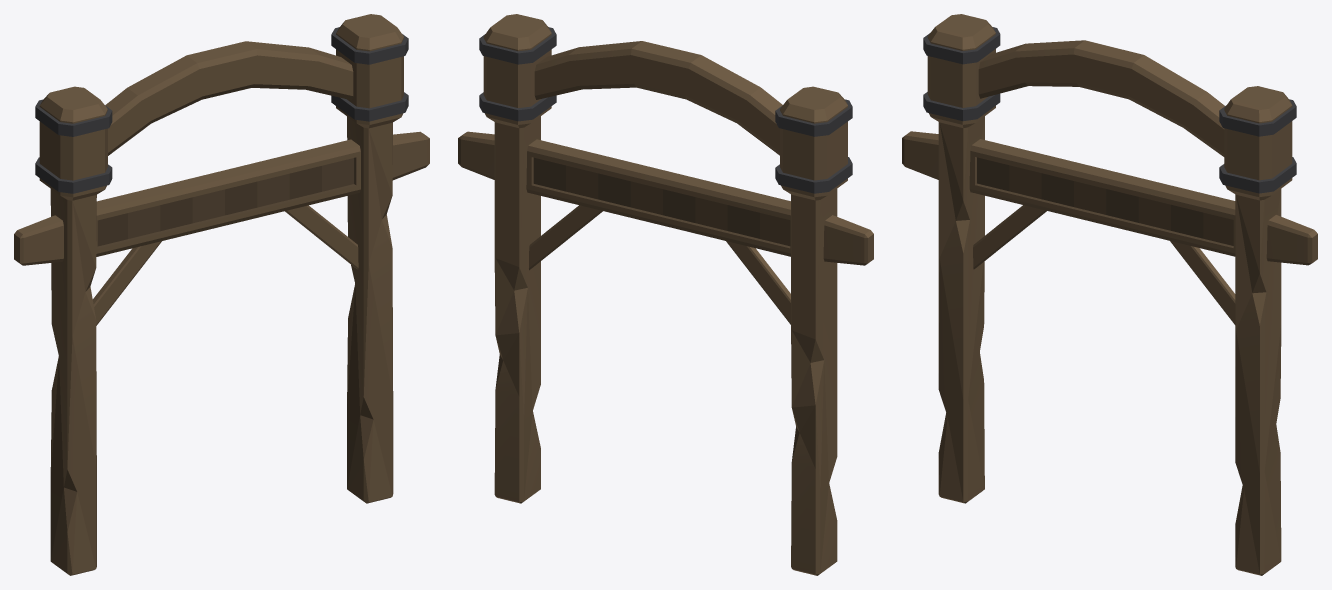
Rendered from Entrada.glb.
The picture shows the model from 3 angles, left to right: view 1: azimuth 30°, elevation 25°; view 2: azimuth 150°, elevation 25°; view 3: azimuth 330°, elevation 25°; orthographic projection.
Visible parts, largest first — view 1: SM_Prop_Village_Entrance_01; view 2: SM_Prop_Village_Entrance_01; view 3: SM_Prop_Village_Entrance_01.
Part boxes in pixels (left/top/right/bottom): SM_Prop_Village_Entrance_01: left=14, top=14, right=429, bottom=575; SM_Prop_Village_Entrance_01: left=458, top=14, right=873, bottom=575; SM_Prop_Village_Entrance_01: left=902, top=14, right=1317, bottom=575.
Bounding box in the file's own units: 3.4 × 3.79 × 0.4963.
1 material, 1 textured.
